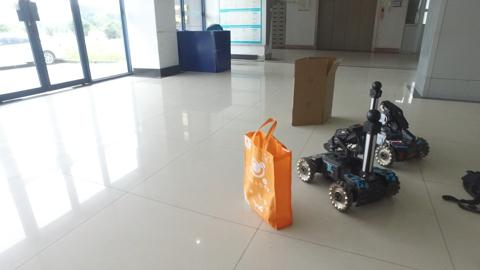bag: (242, 116, 294, 228)
box: (291, 53, 337, 126)
chariot: (298, 110, 405, 211), (365, 77, 437, 165)
